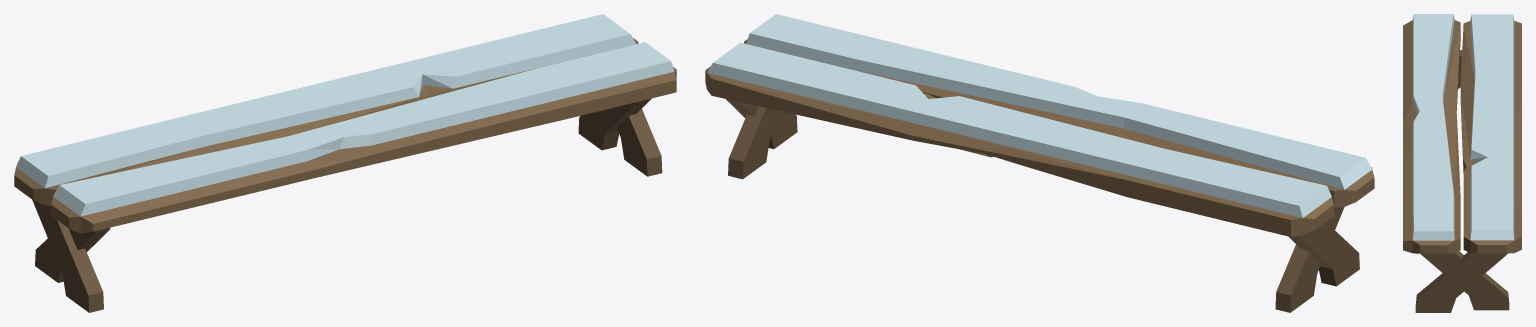
File: Banca_Madera.glb
The picture shows the model from 3 angles, left to right: view 1: azimuth 30°, elevation 25°; view 2: azimuth 150°, elevation 25°; view 3: azimuth 270°, elevation 25°; orthographic projection. The views are drawn at different scales.
Parts seen in each view (by area): view 1: SM_Prop_Bench_01_Snow; view 2: SM_Prop_Bench_01_Snow; view 3: SM_Prop_Bench_01_Snow.
Part boxes in pixels (x1,y1,x2,y2): SM_Prop_Bench_01_Snow: (14, 14, 676, 312); SM_Prop_Bench_01_Snow: (705, 14, 1374, 312); SM_Prop_Bench_01_Snow: (1403, 14, 1521, 312).
Size of the model in its own units: 2.38 by 0.4147 by 0.5292.
1 material, 1 textured.
